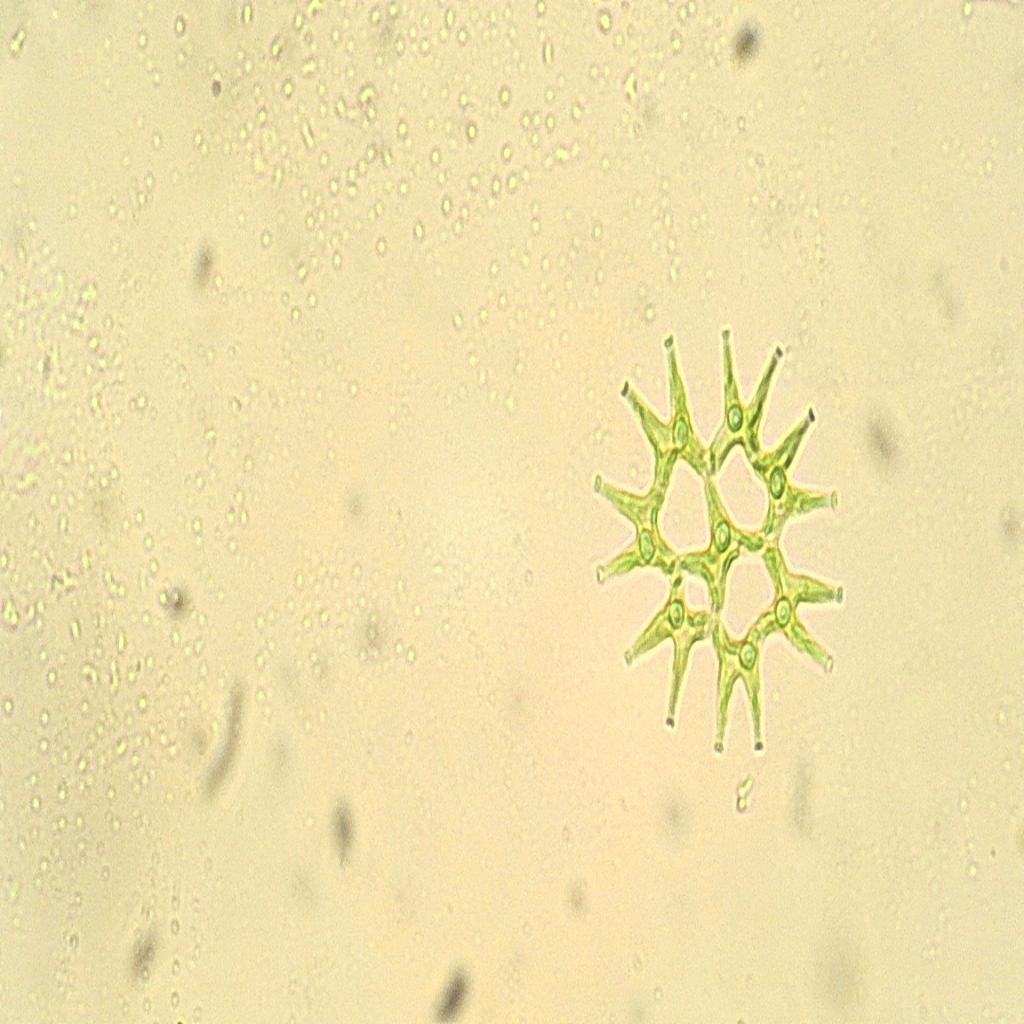Pediastrum_CTH: (577, 309, 863, 773)
